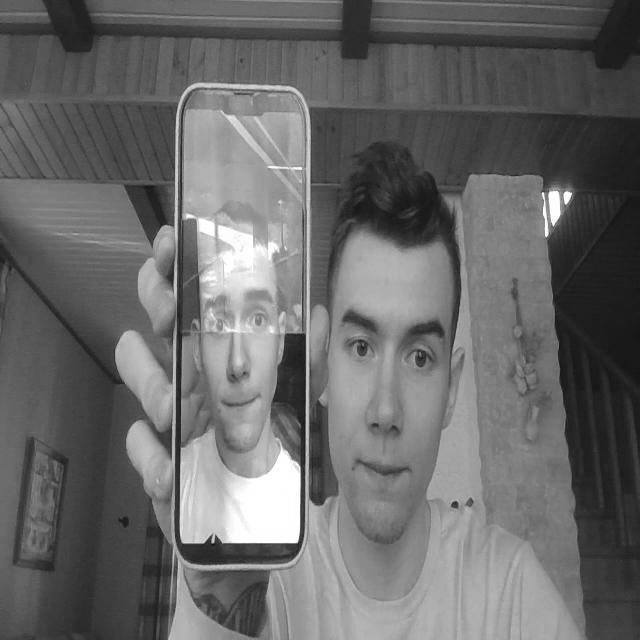fake: (171, 87, 309, 563)
real: (332, 245, 448, 541)
